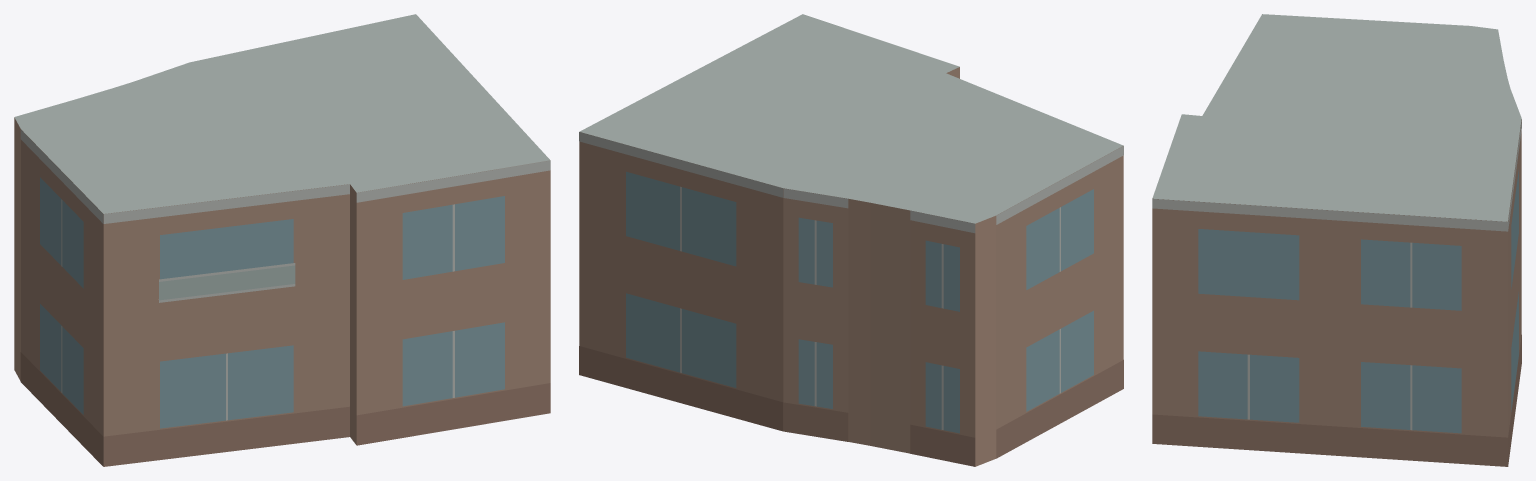
The model's file is survey-upis-32532662.glb.
The picture shows the model from 3 angles, left to right: view 1: azimuth 30°, elevation 25°; view 2: azimuth 150°, elevation 25°; view 3: azimuth 270°, elevation 25°; orthographic projection. The views are drawn at different scales.
Parts seen in each view (by area): view 1: survey-upis-32532662.tmp; view 2: survey-upis-32532662.tmp; view 3: survey-upis-32532662.tmp.
Boxes of the visible parts, x1,y1,x2,y2 form: survey-upis-32532662.tmp: (14, 14, 550, 466); survey-upis-32532662.tmp: (579, 14, 1123, 466); survey-upis-32532662.tmp: (1152, 14, 1521, 466).
Bounding box in the file's own units: 11.1 × 6.1 × 8.35.
